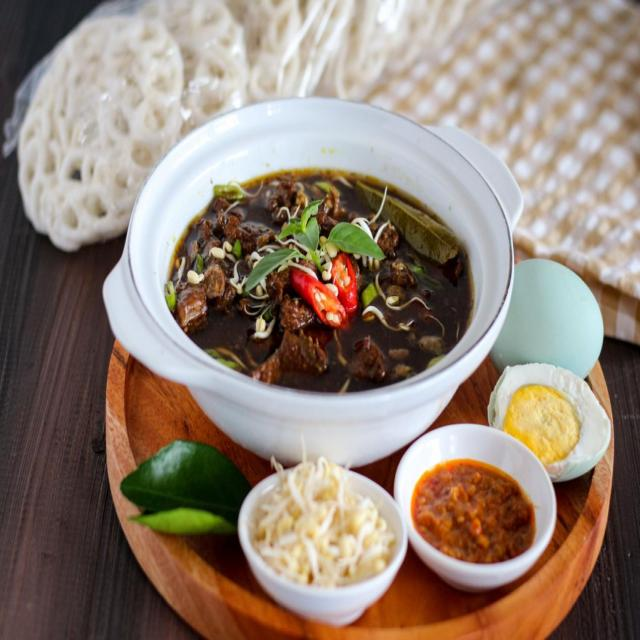Rawon: (153, 147, 477, 399)
